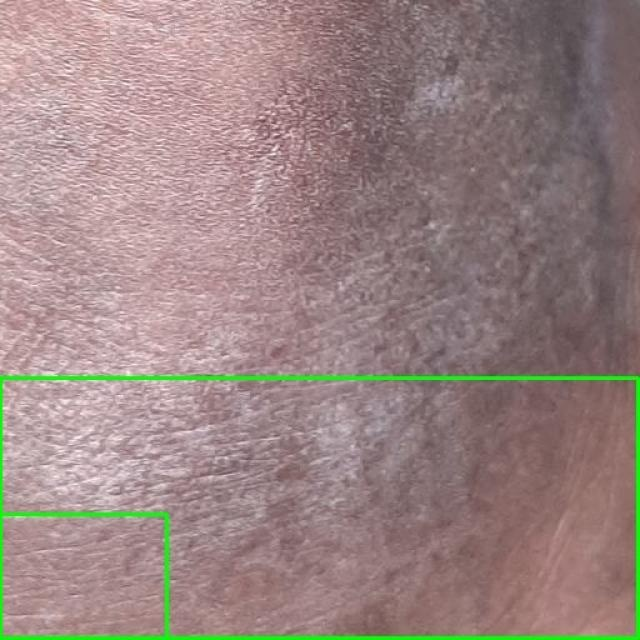Contact Dermatitis: (0, 379, 639, 639), (0, 514, 166, 639)
